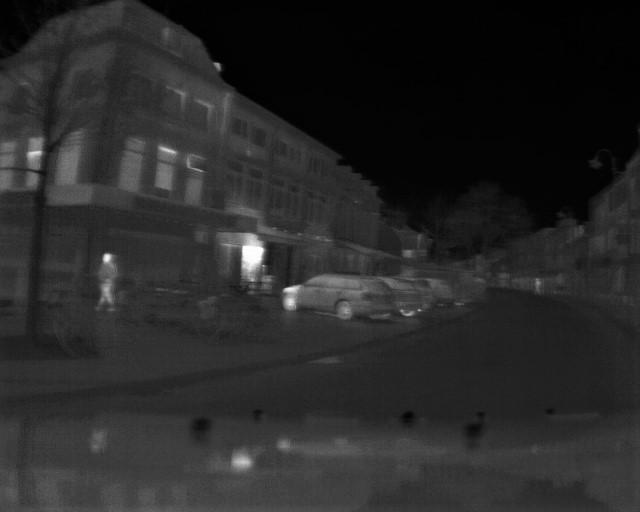car: (278, 268, 396, 327), (395, 275, 423, 316)
person: (96, 248, 117, 311)
